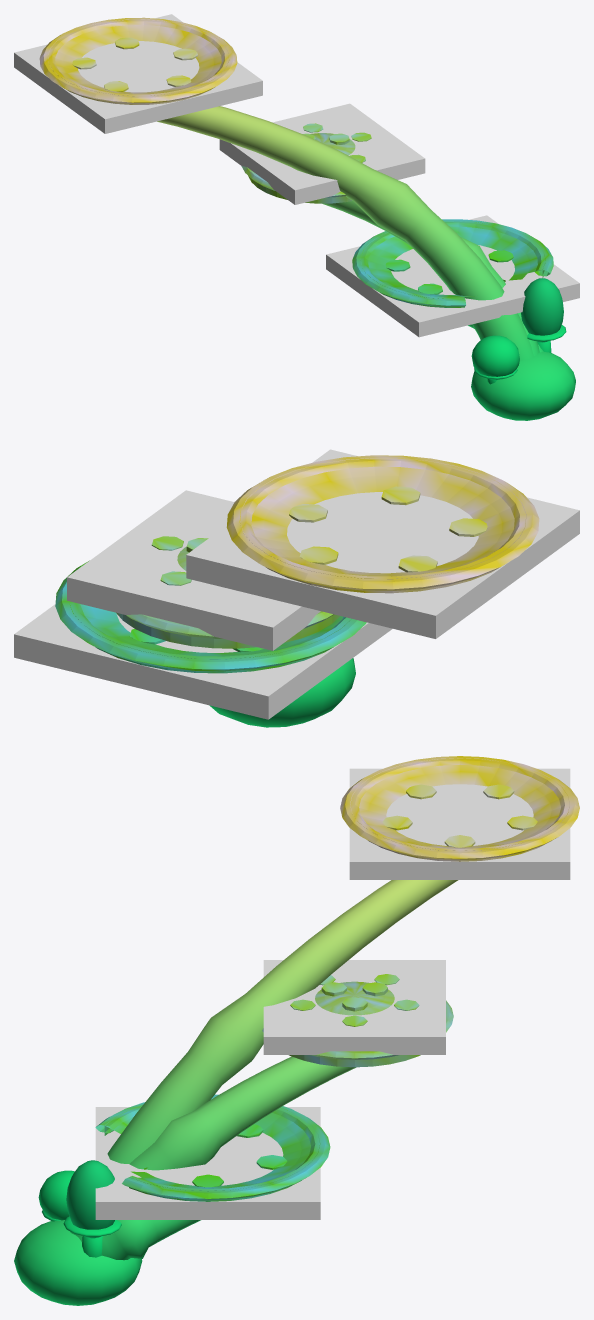
File: Plant_Platform_03.fbx
3 renders of one model, top to bottom at view 1: azimuth 30°, elevation 25°; view 2: azimuth 150°, elevation 25°; view 3: azimuth 270°, elevation 25°, orthographic. The views are drawn at different scales.
Visible parts, largest first — view 1: Plant_Platform_03, COL_03_2, COL_03_0, COL_03_1; view 2: Plant_Platform_03, COL_03_2, COL_03_1, COL_03_0; view 3: Plant_Platform_03, COL_03_2, COL_03_1, COL_03_0.
Part boxes in pixels (box(x1,y1,x2,y2)): Plant_Platform_03: box(39, 17, 575, 420); COL_03_2: box(14, 14, 262, 133); COL_03_0: box(326, 215, 579, 337); COL_03_1: box(219, 103, 425, 204); Plant_Platform_03: box(55, 455, 539, 727); COL_03_2: box(186, 449, 579, 638); COL_03_1: box(67, 490, 320, 650); COL_03_0: box(14, 604, 392, 719); Plant_Platform_03: box(14, 756, 579, 1305); COL_03_2: box(349, 768, 570, 879); COL_03_1: box(263, 960, 445, 1054); COL_03_0: box(95, 1107, 320, 1219).
Size of the model in its own units: 5.43 by 4 by 5.73.
